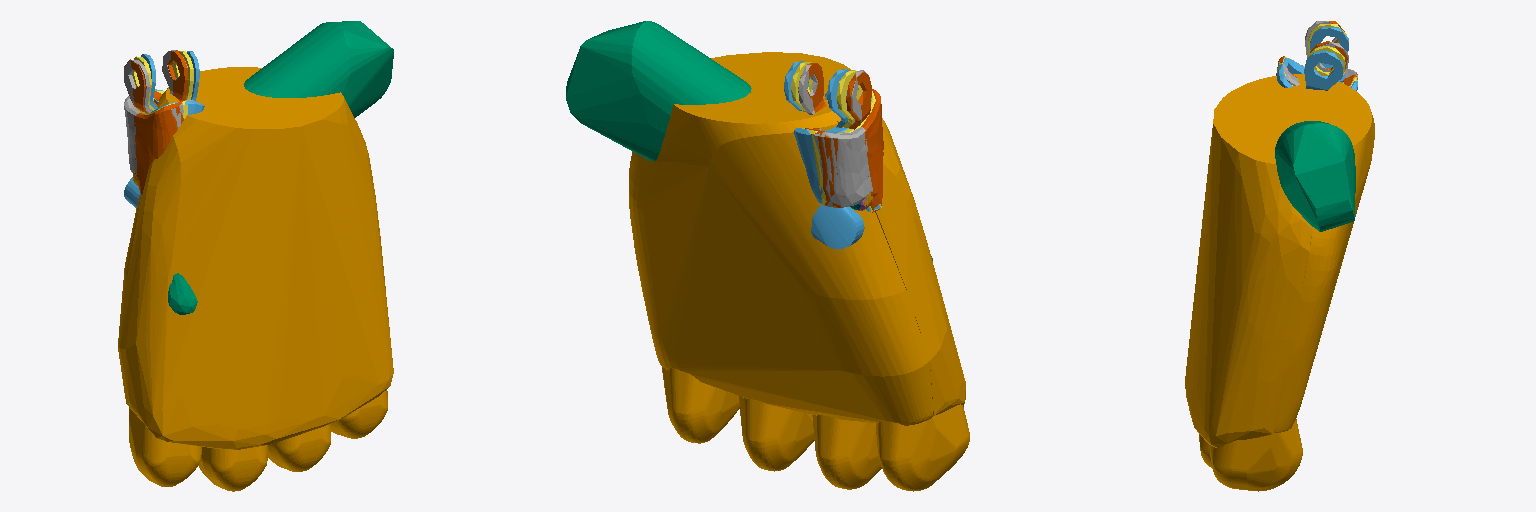
The robot description file, URDF, robot "ability_hand":
<!--
	NOTES:
	Units:
		Distance: m
		Angles: rad (only option)
		Mass: kg
		Inertia: kg*m^2
		
	Notes on intertia:
		-The inertias are calculated for uniform density with weights that may or may not be accurate.
		At the time of this writing only the thumb flexor weight is correct. The palm is a 'best guess' 
		approximation and the fingers are likely off by an order of magnitude
	
	Notes on finger q2:
		-The hand is a 4 bar linkage mechanism forming an 'X'. 4 bar linkages are not supported in the 
		urdf format. The motion of the second finger joint is fully defined by the motion of the first 
		finger joint. The calculation to find the index finger second joint angle given the first is provided
		in a matlab script elsewhere in this repository.
-->
<robot name="ability_hand">

	<link name="base" >
		<inertial>
			<mass value = "0.400"/>
			<inertia ixx="978.26e-6" ixy = "87.34e-6" ixz = "322.99e-6" iyy = "1244.78e-6" iyz = "244.74e-6" izz = "456.22e-6" />
			<origin xyz = "22.41911e-3 -0.15798201e-3 -0.01319866e-3" rpy = "0 0 0"/>
		</inertial>
				
		<!--WristPlateBone-->
		<visual>
			<origin xyz = "27.412417e-3 -0.454432e-3 26.510489e-3" rpy = "0.006361 -0.088345 3.069623" />
			<geometry>
				<cylinder length = "3.9e-3" radius = "24.05e-3"/>
			</geometry>
		</visual>
		<!--Wrist Bone 2-->
		<visual>
			<origin xyz = "36.796220e-3 -8.001000e-3 12.124025e-3" rpy = "-3.086612 -0.059956 2.398653" />
			<geometry>
				<cylinder length = "25.000660e-3" radius = "3.500000e-3" />
			</geometry>
		</visual>
		<!--Wrist Bone-->
		<visual>
			<origin xyz = "8.509640e-3 -8.001000e-3 14.636040e-3" rpy = "-0.059614 0.065548 -0.738965" />
			<geometry>
				<cylinder length = "25.000001e-3" radius = "3.500000e-3" />
			</geometry>
		</visual>
		<!--Bar Bone-->
		<visual>
			<origin xyz = "25.349180e-3 -8.001000e-3 0.000000e-3" rpy = "1.570796 -0.785398 -1.570796" />
			<geometry>
				<cylinder length = "66.000000e-3" radius = "7.00000e-3" />
			</geometry>
		</visual>
		<!--Pinky Bone-->
		<visual>
			<origin xyz = "50.889805e-3 -8.753450e-3 -29.632815e-3" rpy = "-0.076208 -0.019754 -0.799369" />
			<geometry>
				<cylinder length = "67.000008e-3" radius = "3.500000e-3" />
			</geometry>
		</visual>
		<!--Ringbone Bone-->
		<visual>
			<origin xyz = "31.064135e-3 -10.290505e-3 -34.034900e-3" rpy = "-0.103572 -0.064539 -0.831114" />
			<geometry>
				<cylinder length = "67.000202e-3" radius = "3.500000e-3" />
			</geometry>
		</visual>
		<!--Middlebone Bone-->
		<visual>
			<origin xyz = "12.268540e-3 -12.148345e-3 -34.606210e-3" rpy = "-0.122139 -0.012729 -0.794400" />
			<geometry>
				<cylinder length = "67.000001e-3" radius = "3.500000e-3" />
			</geometry>
		</visual>
		<!--Index Bone-->
		<visual>
			<origin xyz = "-5.830855e-3 -10.981725e-3 -33.241905e-3" rpy = "-0.133914 0.042071 -0.755627" />
			<geometry>
				<cylinder length = "59.999993e-3" radius = "3.500000e-3" />
			</geometry>
		</visual>
		
		
		<visual>
			<origin rpy = "0 0 0" xyz = "0 0 0"/>
			<geometry>
				<mesh filename="models/FB_palm_ref.STL"/>
			</geometry>
		</visual>
		
		
	</link>
	
	
	
	<link name="index_L1" >
		<inertial>
			<mass value = "0.00635888"/>
			<inertia ixx="0.29766e-6" ixy = "-0.06447133e-6" ixz = "-0.00423315e-6" iyy = "3.6947967e-6" iyz = "0.00083028e-6" izz = "3.8176336e-6" />
			<origin xyz = "22.41911e-3 -0.15798201e-3 -0.01319866e-3" rpy = "0 0 0"/>
		</inertial>
		<visual>
			<origin xyz = "0 0 0" rpy = "0 0 0"/>
			<geometry>
				<!--<cylinder length="8" radius="7"/>-->
				<sphere radius = "7e-3"/>
			</geometry>
		</visual>
		<visual>
			<origin xyz = "19.23500e-3 1.62500e-3 0" rpy = "0 0 0.084474"/>
			<geometry>	
				<box size = "38.6070382e-3 4e-3 4e-3"/>
			</geometry>
		</visual>
		
		<visual>
			<origin xyz = "38.472723e-3 3.257695e-3 0.000000" rpy = "0 0 0.084474"/>
			<geometry>
				<mesh filename="models/idx-F1.STL"/>
			</geometry>
		</visual>
		
		
	</link>
	<link name="index_L2" >
		<inertial>
			<mass value = "0.00645"/>
			<inertia ixx="0.82671e-6" ixy = "-1.08876e-6" ixz = "-0.00037e-6" iyy = "1.98028e-6" iyz = "0.00081e-6" izz = "2.64638e-6" />
			<origin rpy = "0 0 0" xyz = "13.36818 -8.75392 -0.02886"/>
		</inertial>		
		<visual>
			<origin xyz = "0 0 0" rpy = "0 0 0"/>
			<geometry>
				<sphere radius = "5e-3"/>
			</geometry>
		</visual>
		<visual>
			<origin xyz = "15.5333e-3 -8.501e-3 0" rpy = "0 0 -0.500734962"/>
			<geometry>	
				<box size = "35.41e-3 4e-3 4e-3"/>
			</geometry>
		</visual>
		<visual>
			<origin xyz = "29.159500e-3 -11.643970e-3 -0.148280e-3" rpy = "1.5708 0 -0.420107"/>
			<geometry>
				<cylinder length = "3e-3" radius = "4e-3"/>
			</geometry>
		</visual>
		
		<visual>
			<origin rpy = "0 0 0" xyz = "9.1241e-3 0 0"/>
			<geometry>
				<mesh filename="models/idx-F2.STL"/>
			</geometry>
		</visual>
		
		
	</link>
	<joint name="index_q1" type="continuous">
		<parent link="base"/>
		<child link="index_L1"/>
		<origin xyz = "-9.49e-3 -13.04e-3 -62.95e-3" rpy = "-1.982050 1.284473 -2.090591" />
		<axis xyz="0 0 1"/>
	</joint>
	<joint name="index_q2" type="continuous">
		<parent link="index_L1"/>
		<child link="index_L2"/>
		<origin xyz = "38.472723e-3 3.257695e-3 0.000000e-3" rpy = "0 0 0.084474"/>
		<axis xyz="0 0 1"/>
	</joint>
	
	

	<link name="middle_L1" >
		<inertial>
			<mass value = "0.00635888"/>
			<inertia ixx="0.29766e-6" ixy = "-0.06447133e-6" ixz = "-0.00423315e-6" iyy = "3.6947967e-6" iyz = "0.00083028e-6" izz = "3.8176336e-6" />
			<origin xyz = "22.41911e-3 -0.15798201e-3 -0.01319866e-3" rpy = "0 0 0"/>
		</inertial>
		<visual>
			<origin xyz = "0 0 0" rpy = "0 0 0"/>
			<geometry>
				<!--<cylinder length="8" radius="7"/>-->
				<sphere radius = "7e-3"/>
			</geometry>
		</visual>
		<visual>
			<origin xyz = "19.23500e-3 1.62500e-3 0" rpy = "0 0 0.084474"/>
			<geometry>	
				<box size = "38.6070382e-3 4e-3 4e-3"/>
			</geometry>
		</visual>
		
		<visual>
			<origin xyz = "38.472723e-3 3.257695e-3 0.000000" rpy = "0 0 0.084474"/>
			<geometry>
				<mesh filename="models/idx-F1.STL"/>
			</geometry>
		</visual>
		
	</link>
	<link name="middle_L2" >
		<inertial>
			<mass value = "0.00645"/>
			<inertia ixx="0.82671e-6" ixy = "-1.08876e-6" ixz = "-0.00037e-6" iyy = "1.98028e-6" iyz = "0.00081e-6" izz = "2.64638e-6" />
			<origin rpy = "0 0 0" xyz = "13.36818e-3 -8.75392e-3 -0.02886e-3"/>
		</inertial>
		<visual>
			<origin xyz = "0 0 0" rpy = "0 0 0"/>
			<geometry>
				<sphere radius = "5e-3"/>
			</geometry>
		</visual>
		<visual>
			<origin xyz = "15.5333e-3 -8.501e-3 0" rpy = "0 0 -0.500734962"/>
			<geometry>	
				<box size = "35.41e-3 4e-3 4e-3"/>
			</geometry>
		</visual>
		<visual>
			<origin xyz = "29.159500e-3 -11.643970e-3 -0.148280e-3" rpy = "1.5708 0 -0.420107"/>
			<geometry>
				<cylinder length = "3e-3" radius = "4e-3"/>
			</geometry>
		</visual>
		
		<visual>
			<origin rpy = "0 0 0" xyz = "9.1241e-3 0 0"/>
			<geometry>
				<mesh filename="models/idx-F2.STL"/>
			</geometry>
		</visual>
		
		
	</link>
	<joint name="middle_q1" type="continuous">
		<parent link="base"/>
		<child link="middle_L1"/>
		<origin xyz = "9.653191e-3 -15.310271e-3 -67.853949e-3" rpy = "-1.860531 1.308458 -1.896217" />
		<axis xyz="0 0 1"/>
	</joint>
	<joint name="middle_q2" type="continuous">
		<parent link="middle_L1"/>
		<child link="middle_L2"/>
		<origin xyz = "38.472723e-3 3.257695e-3 0.000000" rpy = "0 0 0.084474"/>
		<axis xyz="0 0 1"/>
	</joint>





	<link name="ring_L1" >
		<inertial>
			<mass value = "0.00635888"/>
			<inertia ixx="0.29766e-6" ixy = "-0.06447133e-6" ixz = "-0.00423315e-6" iyy = "3.6947967e-6" iyz = "0.00083028e-6" izz = "3.8176336e-6" />
			<origin xyz = "22.41911e-3 -0.15798201e-3 -0.01319866e-3" rpy = "0 0 0"/>
		</inertial>
		<visual>
			<origin xyz = "0 0 0" rpy = "0 0 0"/>
			<geometry>
				<sphere radius = "7e-3"/>
				<!--<cylinder length="8" radius="7"/>-->
			</geometry>
		</visual>
		<visual>
			<origin xyz = "19.23500e-3 1.62500e-3 0" rpy = "0 0 0.084474"/>
			<geometry>	
				<box size = "38.6070382e-3 4e-3 4e-3"/>
			</geometry>
		</visual>
		
		<visual>
			<origin xyz = "38.472723e-3 3.257695e-3 0.000000" rpy = "0 0 0.084474"/>
			<geometry>
				<mesh filename="models/idx-F1.STL"/>
			</geometry>
		</visual>
		
		
	</link>
	<link name="ring_L2" >
		<inertial>
			<mass value = "0.00645"/>
			<inertia ixx="0.82671e-6" ixy = "-1.08876e-6" ixz = "-0.00037e-6" iyy = "1.98028e-6" iyz = "0.00081e-6" izz = "2.64638e-6" />
			<origin rpy = "0 0 0" xyz = "13.36818e-3 -8.75392e-3 -0.02886e-3"/>
		</inertial>
		<visual>
			<origin xyz = "0 0 0" rpy = "0 0 0"/>
			<geometry>
				<sphere radius = "5e-3"/>
			</geometry>
		</visual>
		<visual>
			<origin xyz = "15.5333e-3 -8.501e-3 0" rpy = "0 0 -0.500734962"/>
			<geometry>	
				<box size = "35.41e-3 4e-3 4e-3"/>
			</geometry>
		</visual>
		<visual>
			<origin xyz = "29.159500e-3 -11.643970e-3 -0.148280e-3" rpy = "1.5708 0 -0.420107"/>
			<geometry>
				<cylinder length = "3e-3" radius = "4e-3"/>
			</geometry>
		</visual>
		
		<visual>
			<origin rpy = "0 0 0" xyz = "9.1241e-3 0 0"/>
			<geometry>
				<mesh filename="models/idx-F2.STL"/>
			</geometry>
		</visual>
		
	</link>
	<joint name="ring_q1" type="continuous">
		<parent link="base"/>
		<child link="ring_L1"/>
		<origin xyz = "29.954260e-3 -14.212492e-3 -67.286105e-3" rpy = "-1.716598 1.321452 -1.675862" />
		<axis xyz="0 0 1"/>
	</joint>
	<joint name="ring_q2" type="continuous">
		<parent link="ring_L1"/>
		<child link="ring_L2"/>
		<origin xyz = "38.472723e-3 3.257695e-3 0.000000" rpy = "0 0 0.084474"/>
		<axis xyz="0 0 1"/>
	</joint>








	<link name="pinky_L1" >
		<inertial>
			<mass value = "0.00635888"/>
			<inertia ixx="0.29766e-6" ixy = "-0.06447133e-6" ixz = "-0.00423315e-6" iyy = "3.6947967e-6" iyz = "0.00083028e-6" izz = "3.8176336e-6" />
			<origin xyz = "22.41911e-3 -0.15798201e-3 -0.01319866e-3" rpy = "0 0 0"/>
		</inertial>
		<visual>
			<origin xyz = "0 0 0" rpy = "0 0 0"/>
			<geometry>
				<sphere radius = "7e-3"/>
			</geometry>
		</visual>
		<visual>
			<origin xyz = "19.23500e-3 1.62500e-3 0" rpy = "0 0 0.084474"/>
			<geometry>	
				<box size = "38.6070382e-3 4e-3 4e-3"/>
			</geometry>
		</visual>
		
		<visual>
			<origin xyz = "38.472723e-3 3.257695e-3 0.000000" rpy = "0 0 0.084474"/>
			<geometry>
				<mesh filename="models/idx-F1.STL"/>
			</geometry>
		</visual>
		
	</link>
	<link name="pinky_L2" >
		<inertial>
			<mass value = "0.00645"/>
			<inertia ixx="0.82671e-6" ixy = "-1.08876e-6" ixz = "-0.00037e-6" iyy = "1.98028e-6" iyz = "0.00081e-6" izz = "2.64638e-6" />
			<origin rpy = "0 0 0" xyz = "13.36818e-3 -8.75392e-3 -0.02886e-3"/>
		</inertial>
		<visual>
			<origin xyz = "0 0 0" rpy = "0 0 0"/>
			<geometry>
				<sphere radius = "5e-3"/>
			</geometry>
		</visual>
		<visual>
			<origin xyz = "15.5333e-3 -8.501e-3 0" rpy = "0 0 -0.500734962"/>
			<geometry>	
				<box size = "35.41e-3 4e-3 4e-3"/>
			</geometry>
		</visual>
		<visual>
			<origin xyz = "29.159500e-3 -11.643970e-3 -0.148280e-3" rpy = "1.5708 0 -0.420107"/>
			<geometry>
				<cylinder length = "3e-3" radius = "4e-3"/>
			</geometry>
		</visual>
		
		<visual>
			<origin rpy = "0 0 0" xyz = "9.1241e-3 0 0"/>
			<geometry>
				<mesh filename="models/idx-F2.STL"/>
			</geometry>
		</visual>
		
	</link>
	<joint name="pinky_q1" type="continuous">
		<parent link="base"/>
		<child link="pinky_L1"/>
		<origin xyz = "49.521293e-3 -11.004583e-3 -63.029065e-3" rpy = "-1.765110 1.322220 -1.658383" />
		<axis xyz="0 0 1"/>
	</joint>
	<joint name="pinky_q2" type="continuous">
		<parent link="pinky_L1"/>
		<child link="pinky_L2"/>
		<origin xyz = "38.472723e-3 3.257695e-3 0.000000" rpy = "0 0 0.084474"/>
		<axis xyz="0 0 1"/>
	</joint>






	<link name="thumb_L1" >
		<inertial>
			<mass value = "0.00268342"/>
			<inertia ixx="0.16931e-6" ixy = "-0.076214e-6" ixz = "-0.16959148e-6" iyy = "0.77769934e-6" iyz = "0.0156622e-6" izz = "0.7249122e-6" />
			<origin rpy = "0 0 0" xyz = "14.606e-3 -1.890854e-3 -3.1155356e-3"/>
		</inertial>
		<visual>
			<origin xyz = "13.851489e-3 -1.900374e-3 -6.866140e-3" rpy = "0.490960 0.456500 -0.136345" />
			<geometry>
				<box size = "31.15246724e-3 5e-3 4e-3"/>
			</geometry>
		</visual>
		<visual>
			<origin xyz = "0 0 0" rpy = "0 0 0"/>
			<geometry>
				<sphere radius = "8e-3"/>
				<!--<cylinder length = "14" radius = "7"/>-->
			</geometry>
		</visual>
		
		<visual>
			<origin xyz = "27.8283501e-3 0 -14.7507000e-3" rpy = "4.450589592585541 0 0" />
			<geometry>
				<mesh filename="models/thumb-F1.STL"/>
			</geometry>
		</visual>
		
	</link>
	<link name="thumb_L2" >
		<inertial>
			<mass value = "0.0055"/>
			<inertia ixx="4.4789082e-6" ixy = "4.4789082e-6" ixz = "-0.62144934e-6" iyy = "15.600996e-6" iyz = "-0.07466143e-6" izz = "17.908554e-6" />
			<origin rpy = "0 0 0" xyz = "30.020522e-3 5.59476e-3 -4.1504356e-3"/>
		</inertial>
		<visual>
			<origin xyz = "0 0 -3.93482782e-3" rpy = "0 0 0"/> <!-- rotation axis cylinder -->
			<geometry>
				<sphere radius = "8.9e-3"/>
				<!--<cylinder length = "7" radius = "8.9"/>-->
			</geometry>
		</visual>
		<visual>
			<origin xyz = "26.851927e-3 6.766622e-3 -3.934828e-3" rpy = "0.000000 -0.000000 0.462507" />
			<geometry>
				<box size = "60.93e-3 4e-3 8e-3"/>
			</geometry>
		</visual>
		<visual>
			<origin xyz = "56.730453e-3 19.890903e-3 -3.934828e-3" rpy = "1.570800 -0.000000 0.343830" />
			<geometry>
				<cylinder length = "7e-3" radius = "7e-3"/>
			</geometry>
		</visual>
		
		<visual>
			<origin xyz = "65.18669e-3 23.34021e-3 -3.93483e-3" rpy = "3.141592 0 0.343830"/>
			<geometry>
				<mesh filename="models/thumb-F2.STL"/>
			</geometry>
		</visual>
		
	</link>
	<joint name="thumb_q1" type="continuous">
		<parent link="base"/>
		<child link="thumb_L1"/>
		<origin xyz = "0 0 0" rpy = "0 0 3.330437"/>
		<axis xyz="0 0 1"/>
	</joint>
	<joint name="thumb_q2" type="continuous">
		<parent link="thumb_L1"/>
		<child link="thumb_L2"/>
		<origin xyz = "27.8283501e-3 0 -14.7507000e-3" rpy = "4.450589592585541 0 0" />
		<axis xyz="0 0 1"/>
	</joint>
	
</robot>

--- Render facts (derived) ---
The picture shows the robot from 3 angles, left to right: view 1: azimuth 30°, elevation 25°; view 2: azimuth 150°, elevation 25°; view 3: azimuth 270°, elevation 25°; orthographic projection.
Robot: ability_hand — 11 links, 10 joints (10 continuous); root link base; default pose: all joints at 0.
Visible links, largest first — view 1: base, thumb_L2, ring_L1, pinky_L1, index_L2, index_L1, middle_L1; view 2: base, thumb_L2, pinky_L1, ring_L1, index_L1, thumb_L1, middle_L1; view 3: base, thumb_L2, index_L1, pinky_L1.
Link boxes in pixels (box(x1,y1,x2,y2)): base: box(118, 67, 393, 491); thumb_L2: box(244, 21, 393, 117); ring_L1: box(124, 50, 187, 195); pinky_L1: box(124, 50, 195, 175); index_L2: box(168, 273, 197, 314); index_L1: box(140, 51, 204, 196); middle_L1: box(132, 51, 193, 196); base: box(629, 52, 969, 491); thumb_L2: box(566, 21, 751, 160); pinky_L1: box(798, 65, 872, 207); ring_L1: box(798, 63, 883, 212); index_L1: box(784, 61, 880, 211); thumb_L1: box(811, 204, 864, 248); middle_L1: box(791, 62, 881, 211); base: box(1185, 74, 1374, 491); thumb_L2: box(1275, 121, 1355, 231); index_L1: box(1277, 27, 1357, 90); pinky_L1: box(1276, 21, 1357, 85).
Size in the robot's own frame: 94.39 by 53 by 124 metres.
Meshes: 5 distinct files referenced, 11 mesh visuals loaded (5 binary STL).